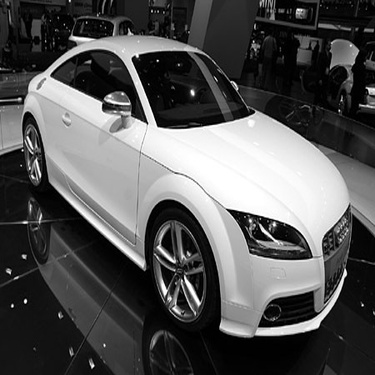car: (15, 30, 357, 338), (61, 2, 149, 65)
